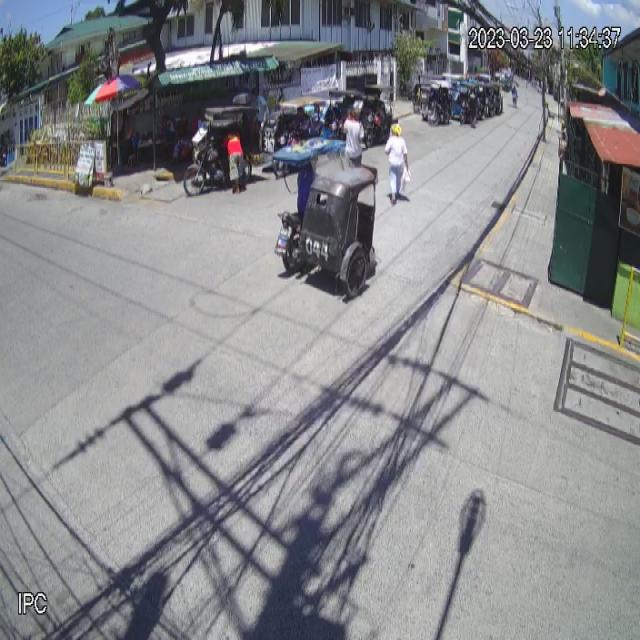Tricycle: (271, 136, 380, 300)
